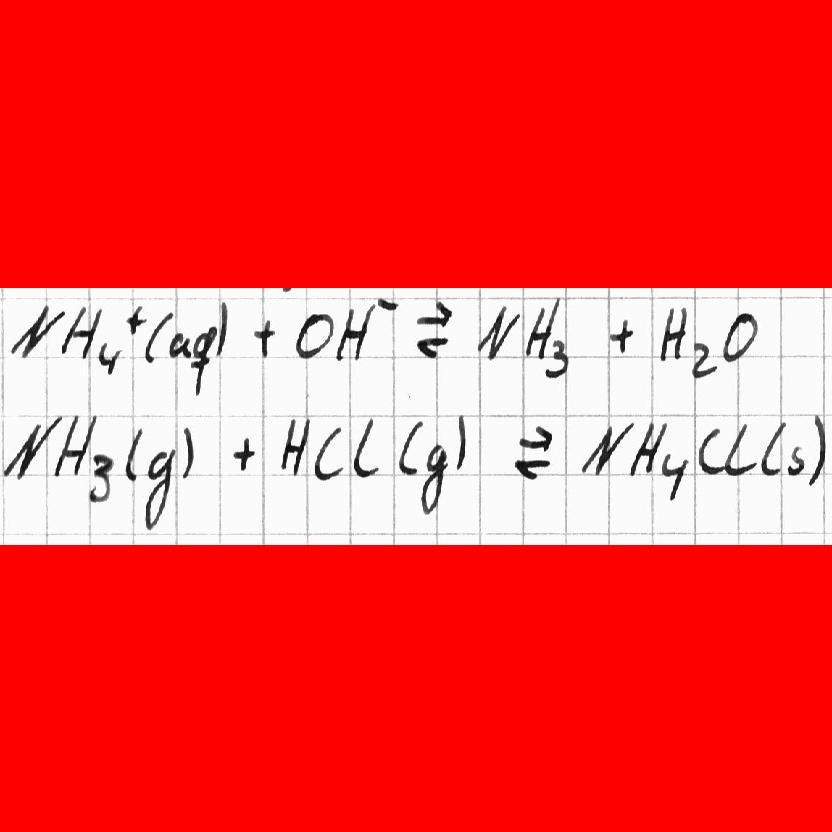Char: (577, 420, 633, 478), (1, 419, 52, 481), (8, 305, 63, 360), (475, 303, 523, 366), (511, 420, 556, 484), (412, 296, 455, 362), (333, 302, 374, 368), (53, 414, 95, 478), (144, 447, 176, 530), (59, 304, 101, 362), (418, 440, 448, 515), (277, 414, 312, 476), (629, 421, 666, 477), (720, 308, 756, 365), (293, 311, 332, 363), (312, 423, 345, 483), (351, 414, 383, 475), (723, 420, 755, 480), (524, 299, 557, 357), (658, 301, 687, 365), (139, 311, 173, 365), (759, 419, 786, 478), (190, 328, 213, 397), (660, 451, 689, 503), (696, 424, 723, 478), (396, 419, 422, 474), (87, 453, 115, 503), (808, 415, 827, 486), (543, 335, 568, 380), (123, 427, 143, 482), (231, 434, 257, 473), (252, 317, 275, 361), (607, 317, 632, 357), (690, 338, 713, 380), (452, 412, 468, 472), (179, 424, 195, 481), (214, 298, 229, 357), (98, 339, 119, 376), (123, 305, 145, 337), (788, 441, 805, 478), (167, 332, 190, 359), (375, 296, 398, 314)
